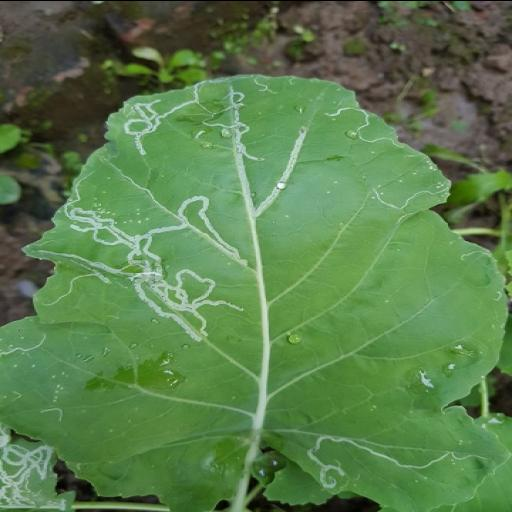disease_tomato: (0, 74, 512, 512)
